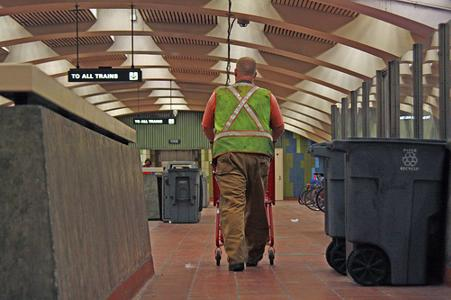person: (200, 55, 287, 274)
